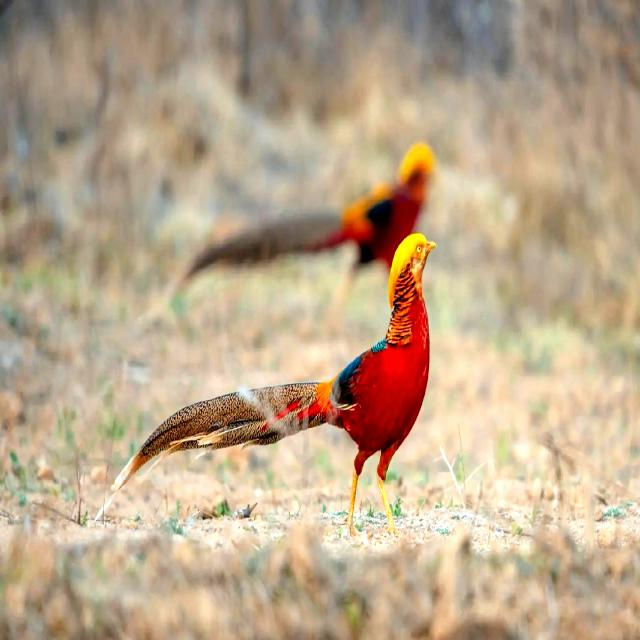Chrysolophus pictus feather: (112, 383, 326, 490)
